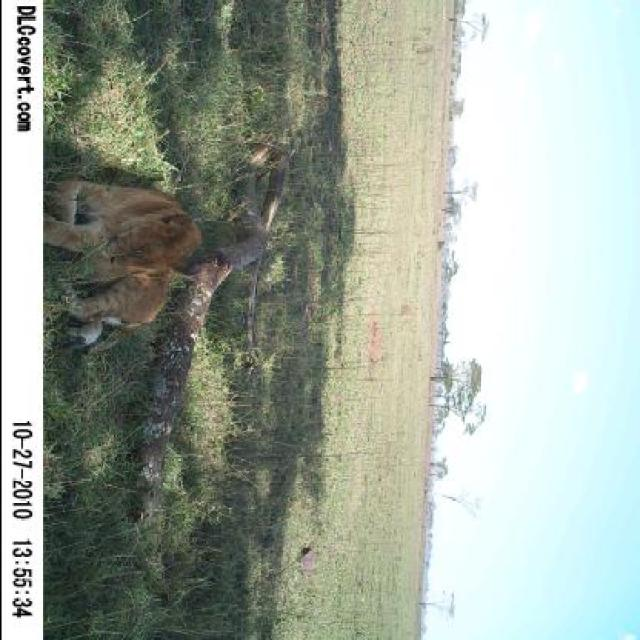Lion: (45, 163, 218, 371)
